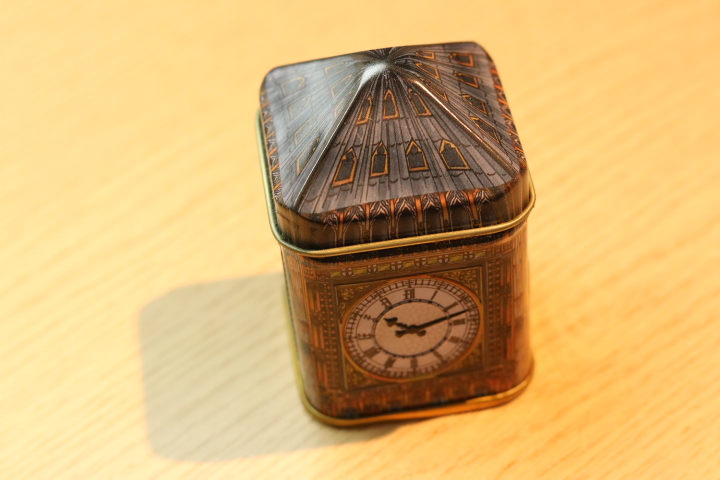Big Ben: (231, 31, 591, 448)
